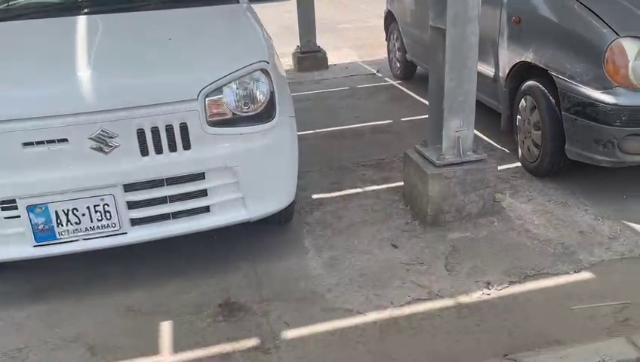plate: (21, 192, 124, 242)
